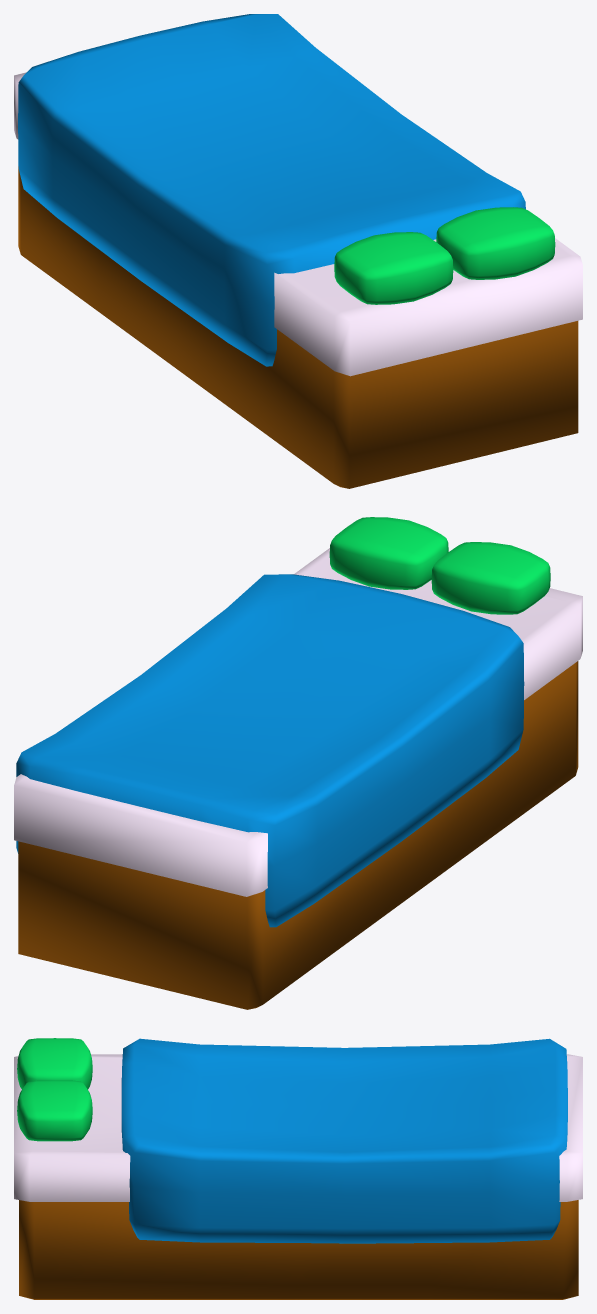
File: Bed2.fbx
3 views of the same model, one above another, from view 1: azimuth 30°, elevation 25°; view 2: azimuth 150°, elevation 25°; view 3: azimuth 270°, elevation 25° (orthographic). The views are drawn at different scales.
Visible parts, largest first — view 1: Cube.003; view 2: Cube.003; view 3: Cube.003.
Part boxes in pixels (<box>): Cube.003: <box>14,14,582,488</box>; Cube.003: <box>14,517,582,1009</box>; Cube.003: <box>14,1038,582,1299</box>.
Bounding box in the file's own units: 230 × 175 × 499.
